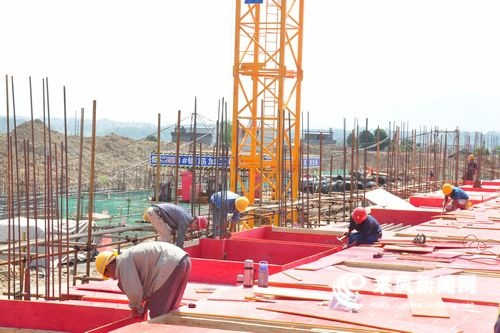red: (190, 213, 207, 231), (352, 208, 368, 224)
yellow: (94, 249, 118, 280), (231, 195, 249, 213), (442, 181, 453, 195), (467, 154, 475, 163)
